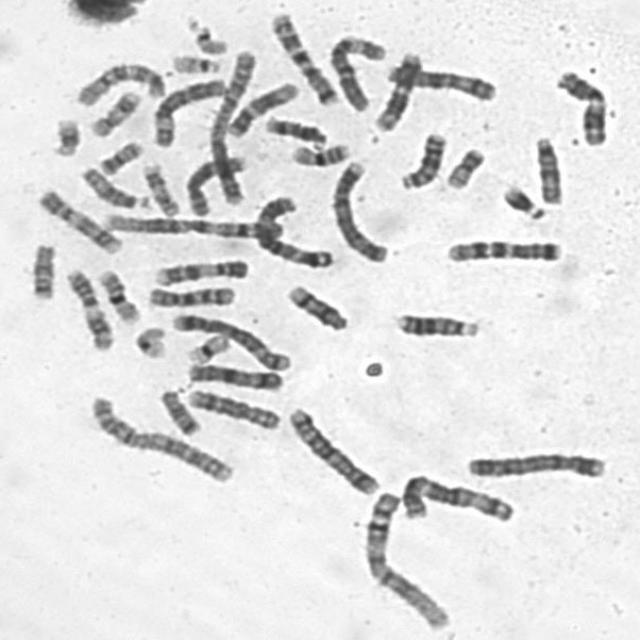A1: (356, 488, 454, 632), (95, 208, 290, 242)
A2: (83, 390, 236, 486), (204, 45, 260, 208)
A3: (394, 468, 517, 525), (249, 190, 336, 270)
B4: (326, 155, 392, 265), (460, 446, 608, 481)
B5: (283, 402, 383, 497), (167, 309, 293, 373)
C10: (69, 56, 168, 108), (143, 282, 238, 309)
C11: (550, 64, 610, 148), (59, 265, 115, 352)
C12: (368, 46, 425, 134), (222, 78, 301, 140)
C6: (146, 72, 230, 150), (321, 30, 388, 113)
C7: (265, 8, 341, 108), (440, 234, 565, 265)
C8: (180, 384, 284, 432), (181, 150, 249, 219)
C9: (32, 184, 125, 255), (148, 254, 252, 288)
D13: (393, 128, 449, 192), (390, 308, 482, 340)
D14: (282, 280, 351, 334), (260, 112, 330, 152)
D15: (75, 162, 153, 212), (528, 132, 566, 206)
E16: (91, 264, 142, 325), (286, 138, 354, 168)
E17: (84, 85, 142, 138), (137, 158, 182, 219)
E18: (153, 384, 202, 437), (24, 238, 59, 302)
F19: (181, 329, 233, 366), (128, 321, 169, 361)
F20: (440, 144, 488, 192), (92, 136, 144, 176)
G21: (496, 181, 550, 222), (47, 112, 83, 159)
G22: (180, 13, 230, 57), (166, 50, 223, 75)
X: (380, 56, 500, 104), (181, 359, 285, 393)
